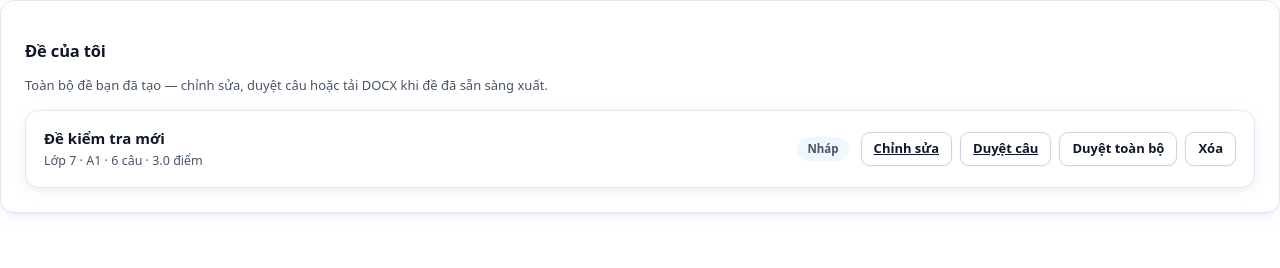
Test: ExamListPage › hiển thị lỗi khi duyệt toàn bộ thất bại
This screenshot has width=1280, height=268.
Check: the heading "Đề kiểm tra mới" is shown, box [44,128,165,148]
Click the button "Duyệt toàn bộ" at (1118, 149), box [1059,132,1177,166]
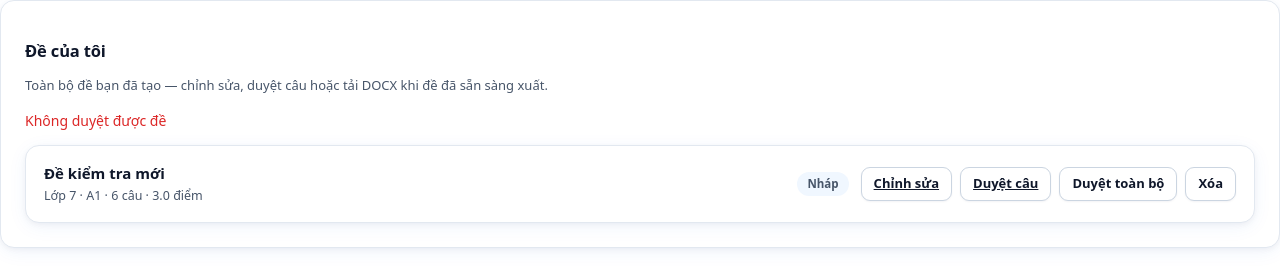
Check: the text "Không duyệt được đề" is shown, box [25,111,166,130]
